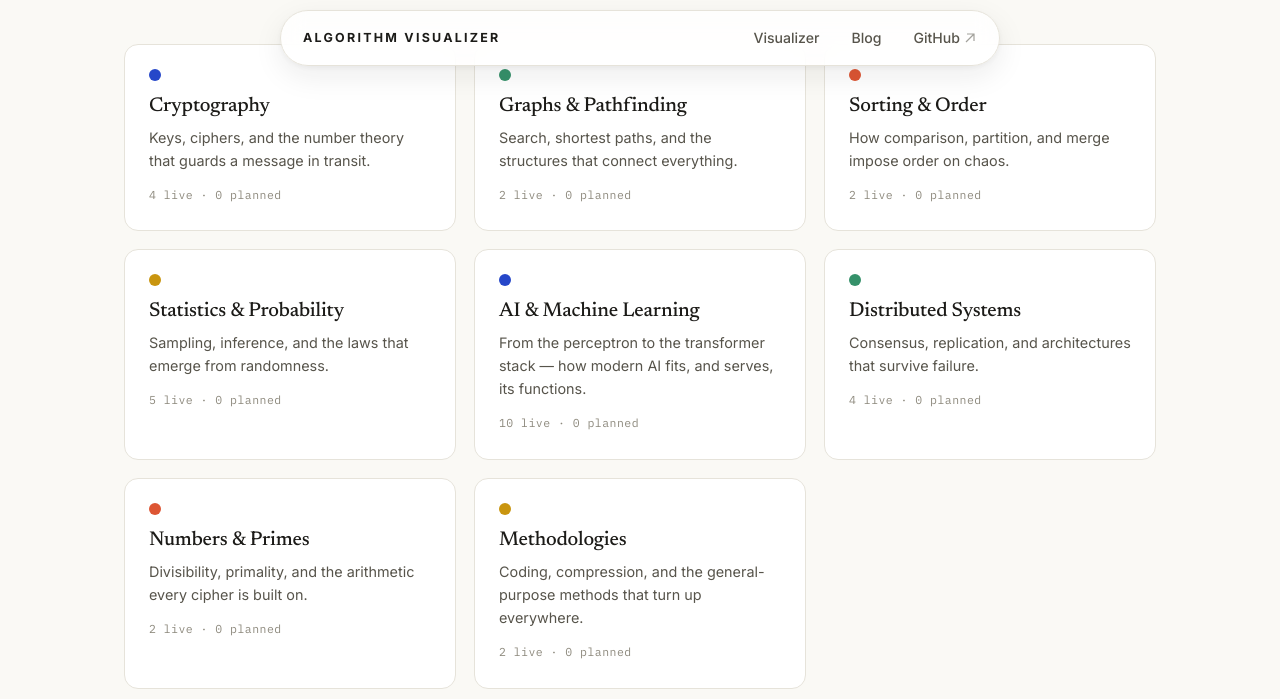
it: catalog by domain › takes a home-page domain card to that domain only
(page scrolled)
Step 1. Click the link "Distributed Systems" → (935, 311), box [824,249,1156,460]
(page scrolled)
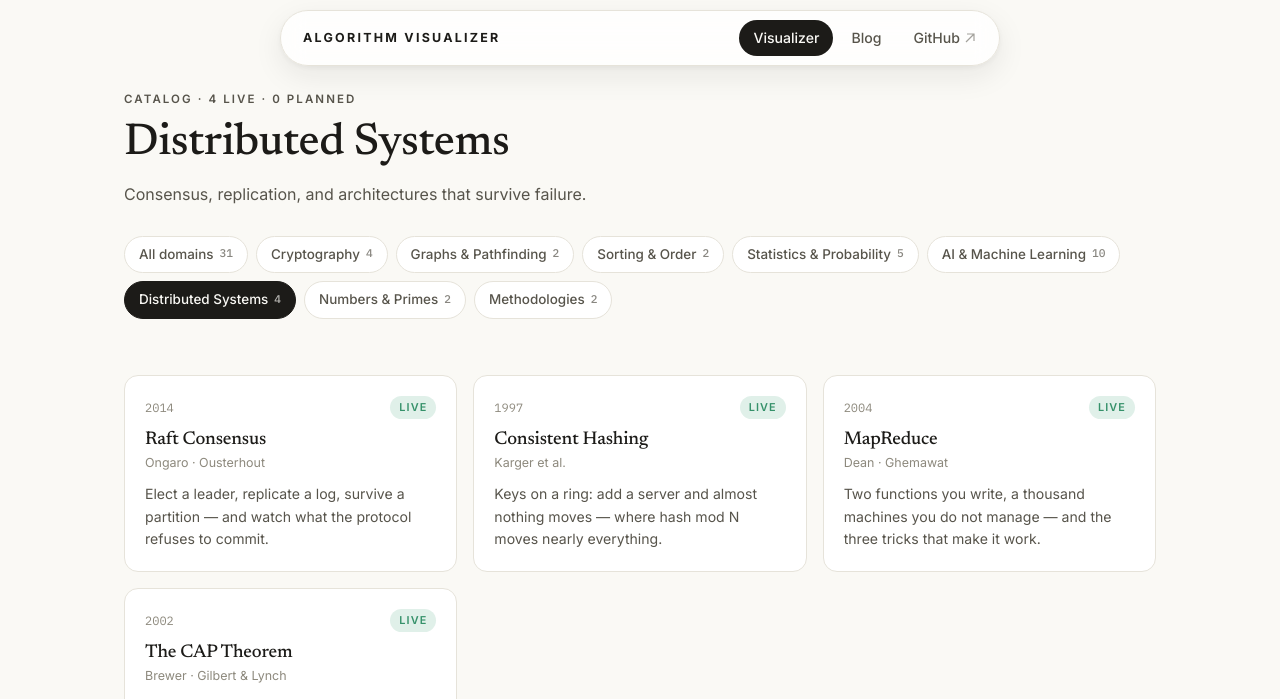
Expected: the heading "Distributed Systems" is shown, [124,121,509,166]
Now the link "Raft Consensus" is shown, box [124,374,457,572]
